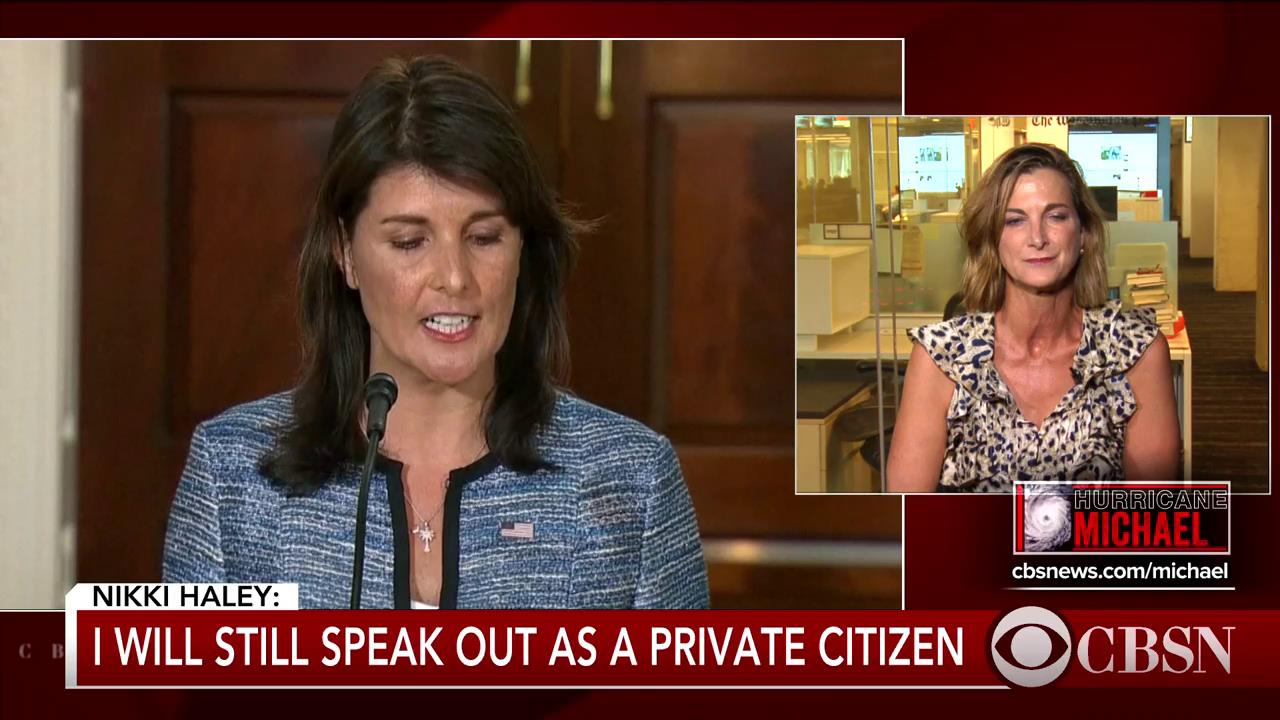B: (46, 641, 64, 662)
C: (16, 639, 35, 660)
CBSN: (1076, 623, 1240, 676)
HURRICANE: (1073, 486, 1226, 509)
I WILL STILL SPEAK OUT AS A PRIVATE CITIZEN: (89, 624, 970, 669)
MICHAEL: (1072, 508, 1211, 550)
NIKKI HALEY:: (90, 582, 282, 609)
The: (1028, 114, 1056, 128)
cbsnews.com/michael: (1011, 560, 1230, 581)
